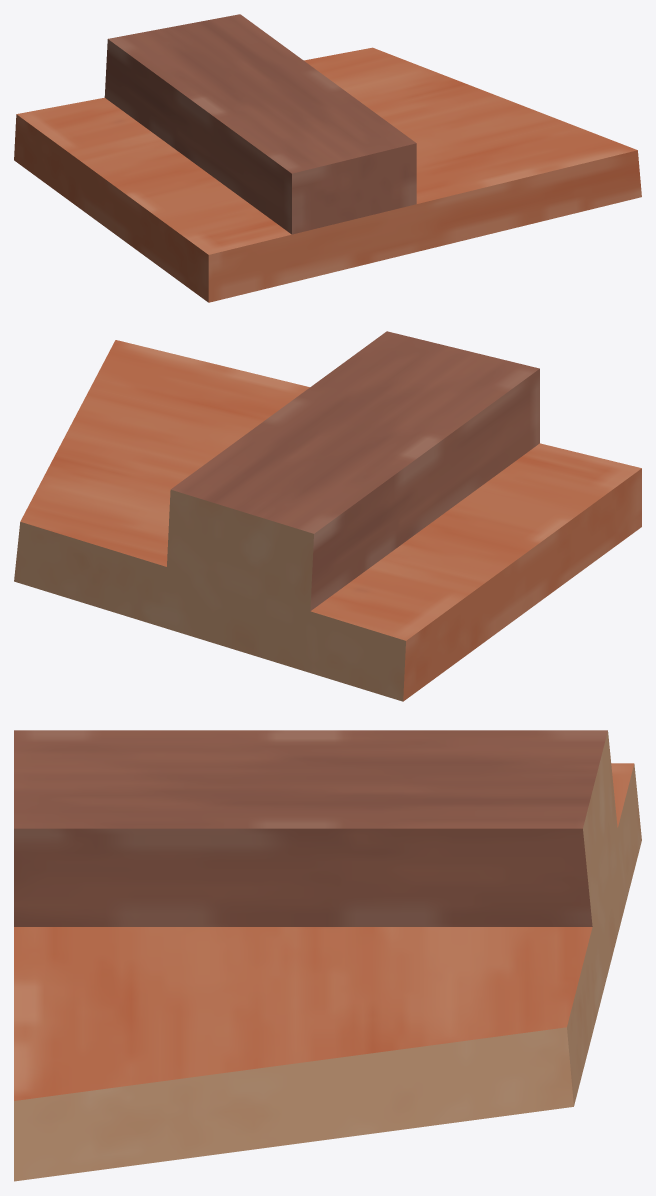
Rendered from bolts_s00.fbx.
3 renders of one model, top to bottom at view 1: azimuth 30°, elevation 25°; view 2: azimuth 150°, elevation 25°; view 3: azimuth 270°, elevation 25°, orthographic. The views are drawn at different scales.
Visible parts, largest first — view 1: bolts_s00; view 2: bolts_s00; view 3: bolts_s00.
Boxes of the visible parts, box(x1,y1,x2,y2) form: bolts_s00: box(14, 14, 641, 302); bolts_s00: box(14, 331, 641, 701); bolts_s00: box(14, 730, 641, 1181).
Size of the model in its own units: 2.08 by 0.5 by 1.62.
